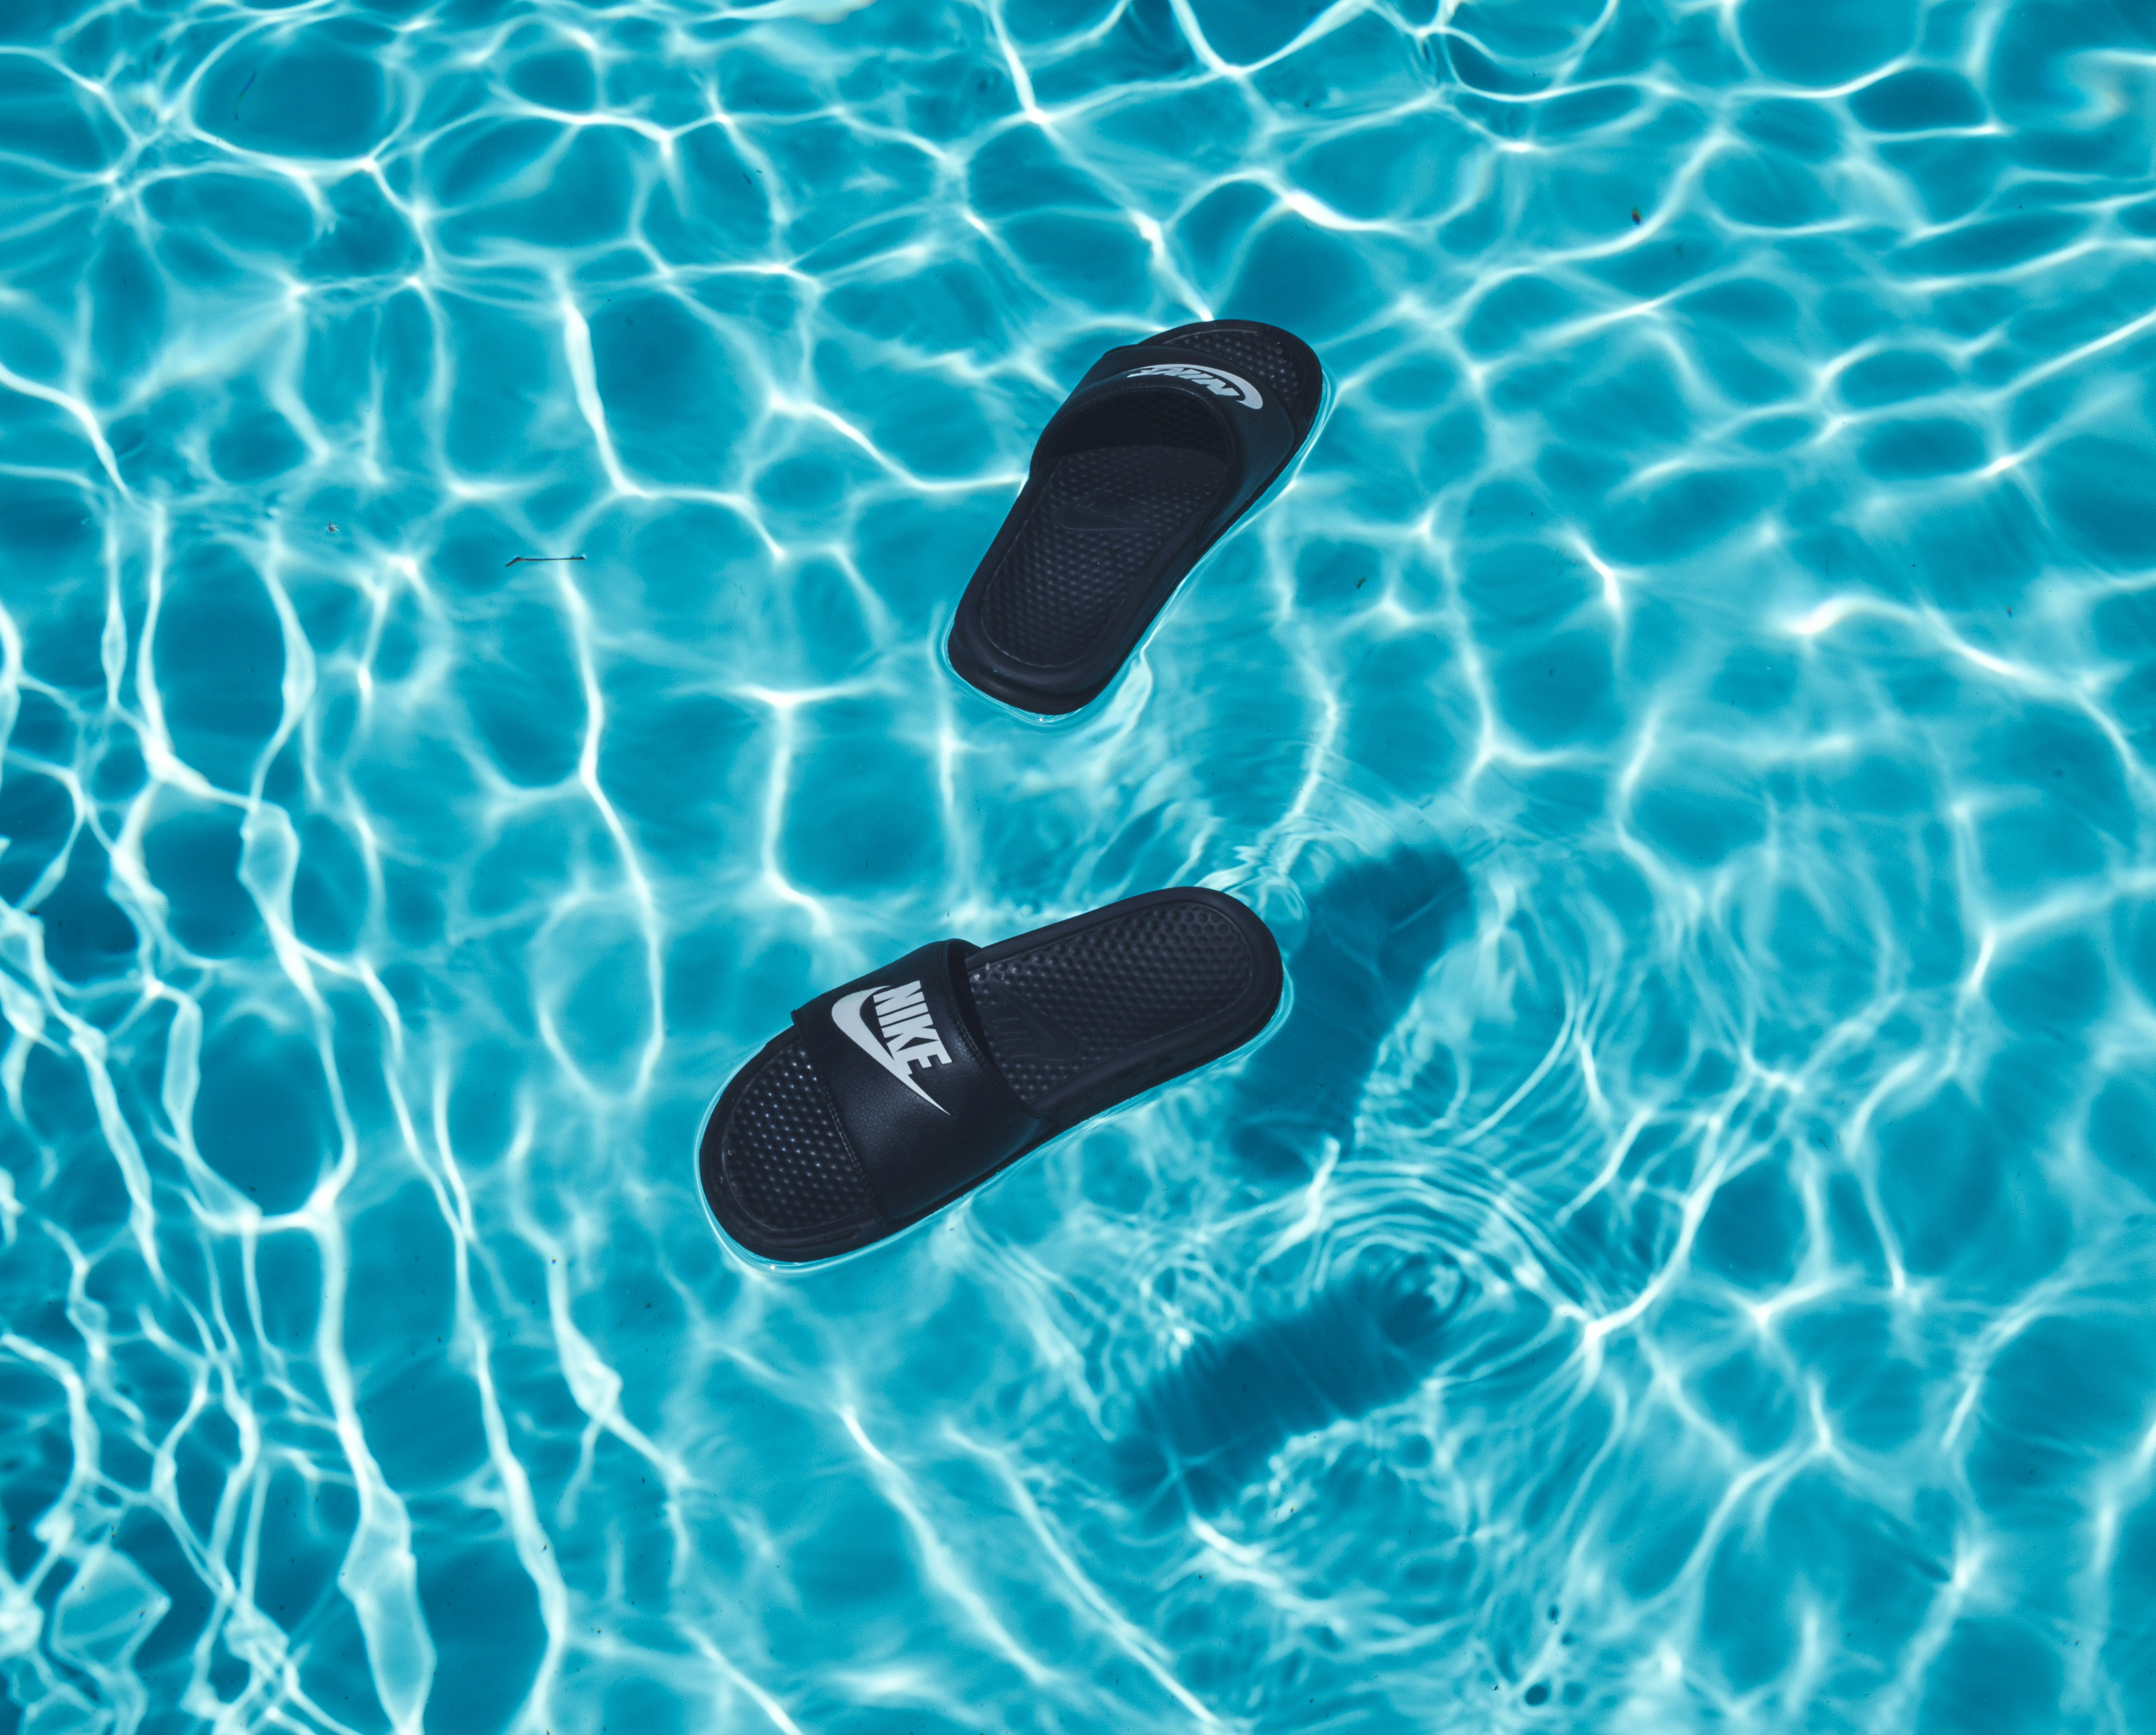Footwear: (689, 885, 1294, 1269), (942, 296, 1326, 722)
